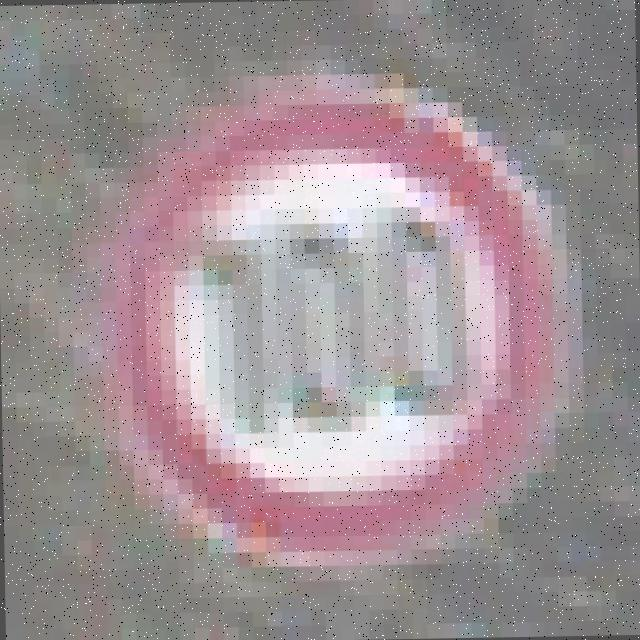Ograniczenie predkosci do 100: (110, 82, 564, 575)
